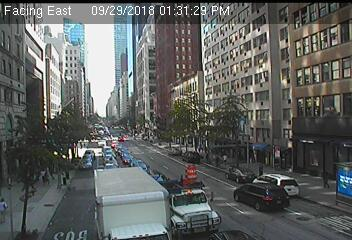car: (92, 169, 171, 240), (152, 180, 221, 237), (233, 182, 291, 212), (251, 174, 298, 198), (225, 166, 256, 182), (128, 158, 149, 171), (182, 151, 199, 163), (79, 158, 91, 169), (167, 147, 181, 156), (121, 154, 135, 163), (105, 164, 118, 173), (105, 159, 117, 167), (82, 154, 93, 161)
